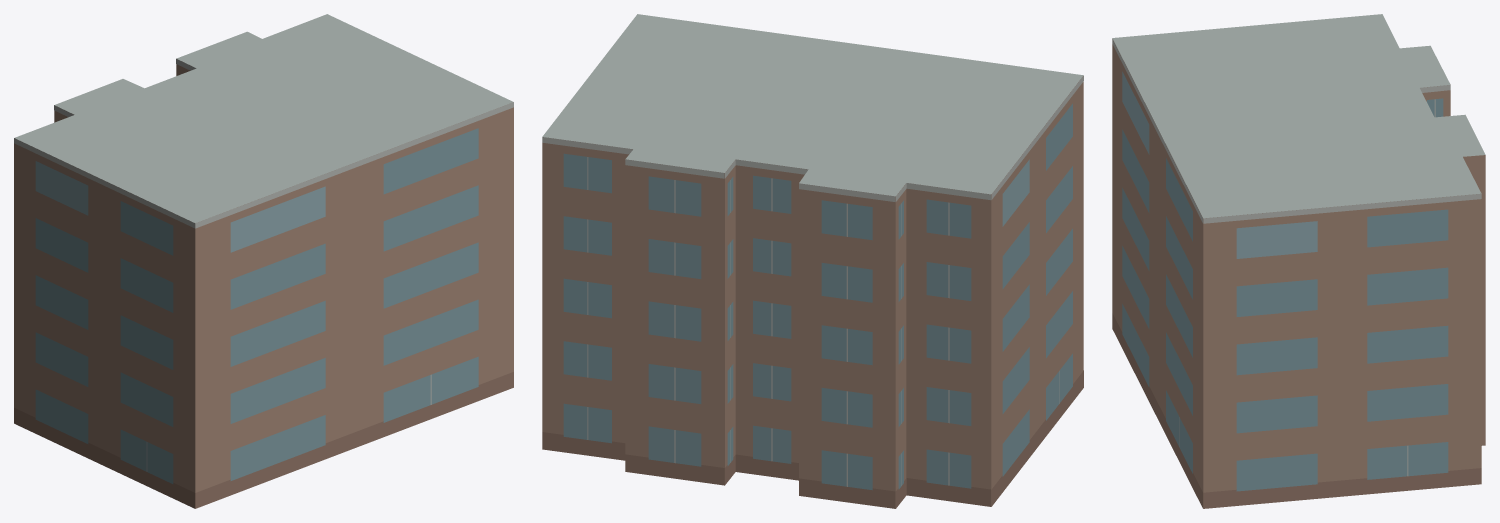
The model's file is survey-upis-32932171.glb.
The picture shows the model from 3 angles, left to right: view 1: azimuth 30°, elevation 25°; view 2: azimuth 150°, elevation 25°; view 3: azimuth 270°, elevation 25°; orthographic projection. The views are drawn at different scales.
Visible parts, largest first — view 1: survey-upis-32932171.tmp; view 2: survey-upis-32932171.tmp; view 3: survey-upis-32932171.tmp.
Part boxes in pixels (x1,y1,x2,y2): survey-upis-32932171.tmp: (14, 14, 513, 508); survey-upis-32932171.tmp: (542, 14, 1083, 508); survey-upis-32932171.tmp: (1112, 14, 1485, 508).
Size of the model in its own units: 19.77 by 13.1 by 15.26.
